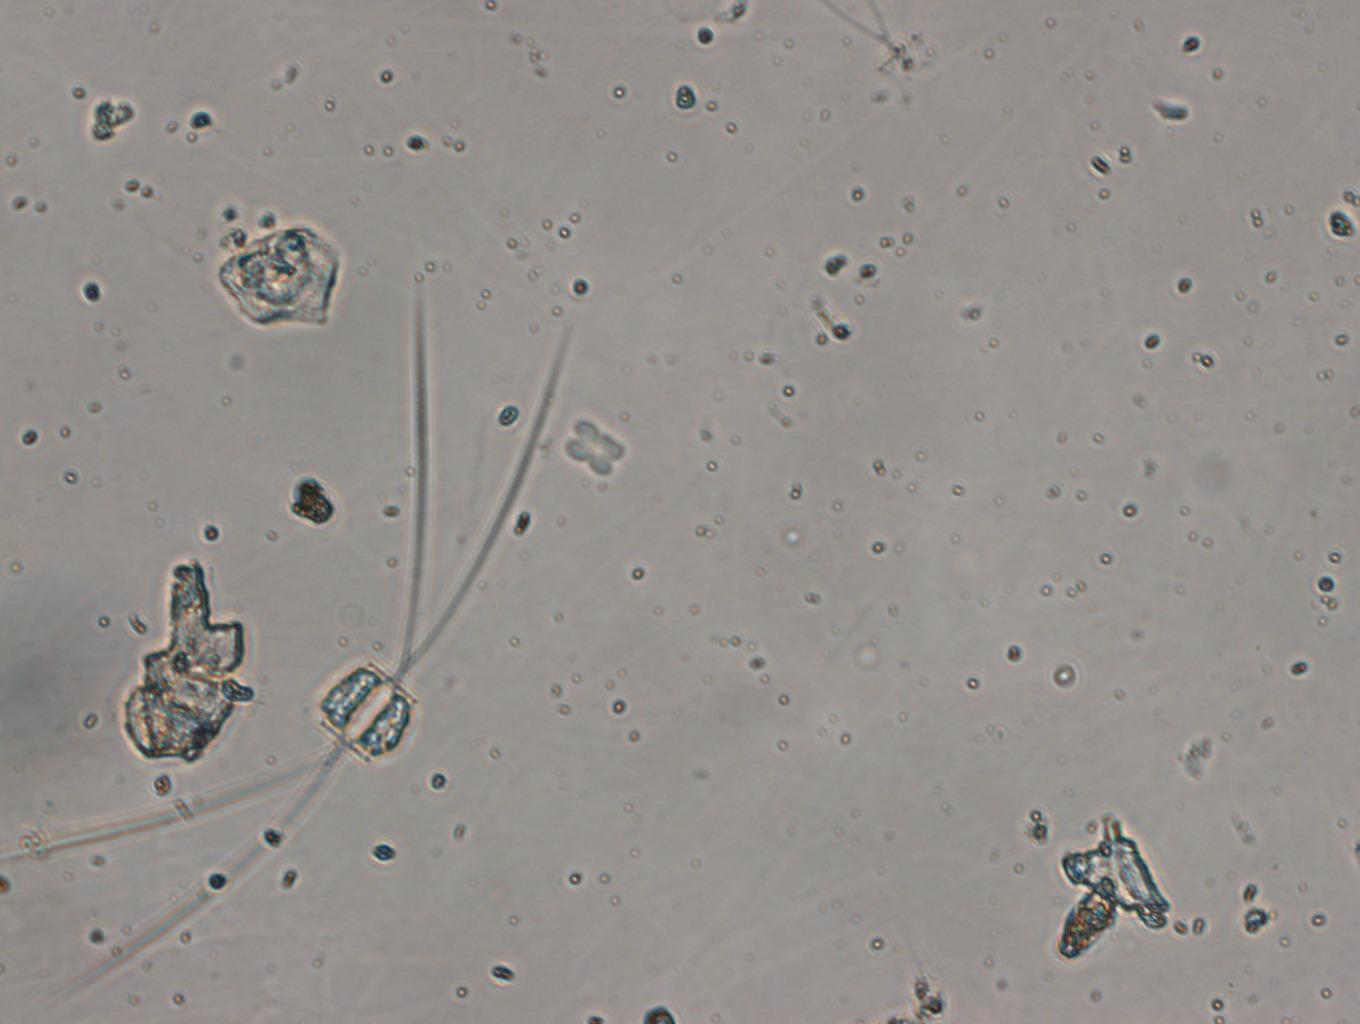chaetoceros: (6, 279, 579, 999)
